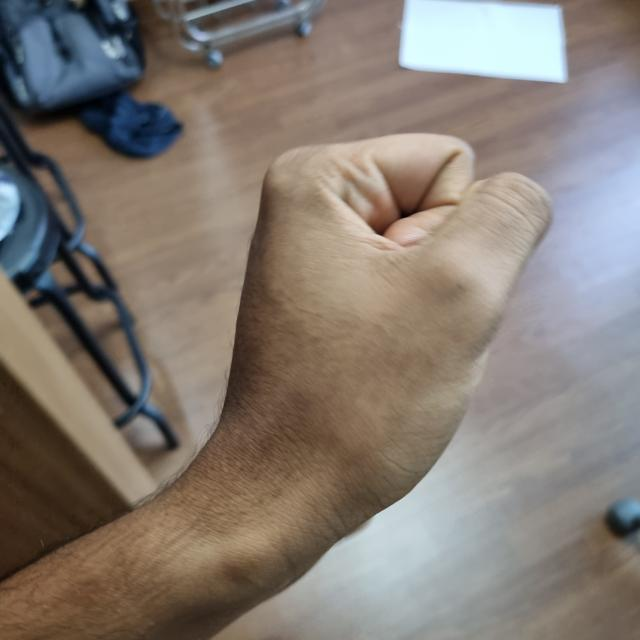Rock: (214, 139, 533, 547)
